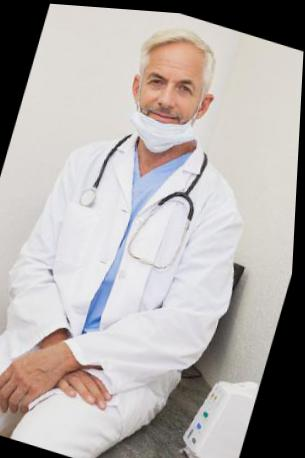WRONG: (126, 53, 208, 149)
